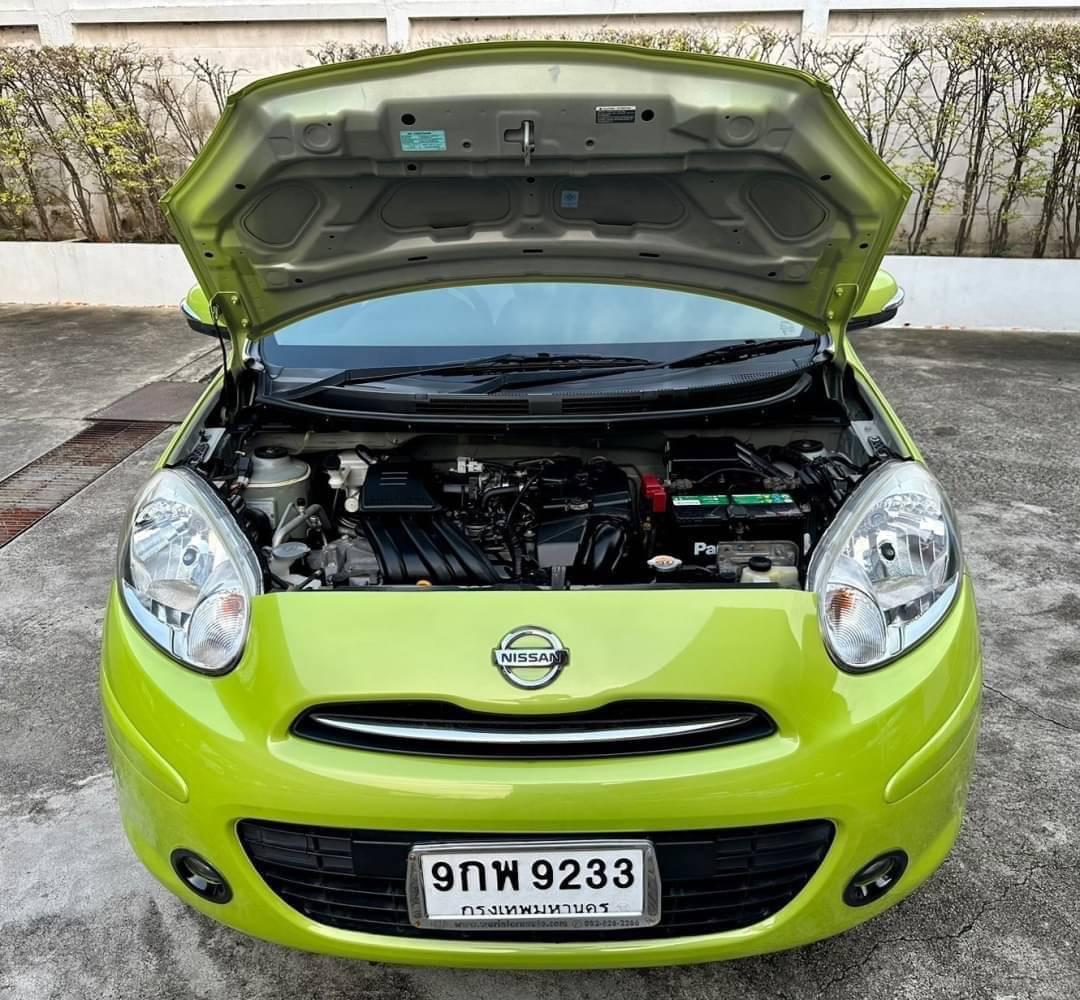license-plate: (402, 837, 669, 931)
